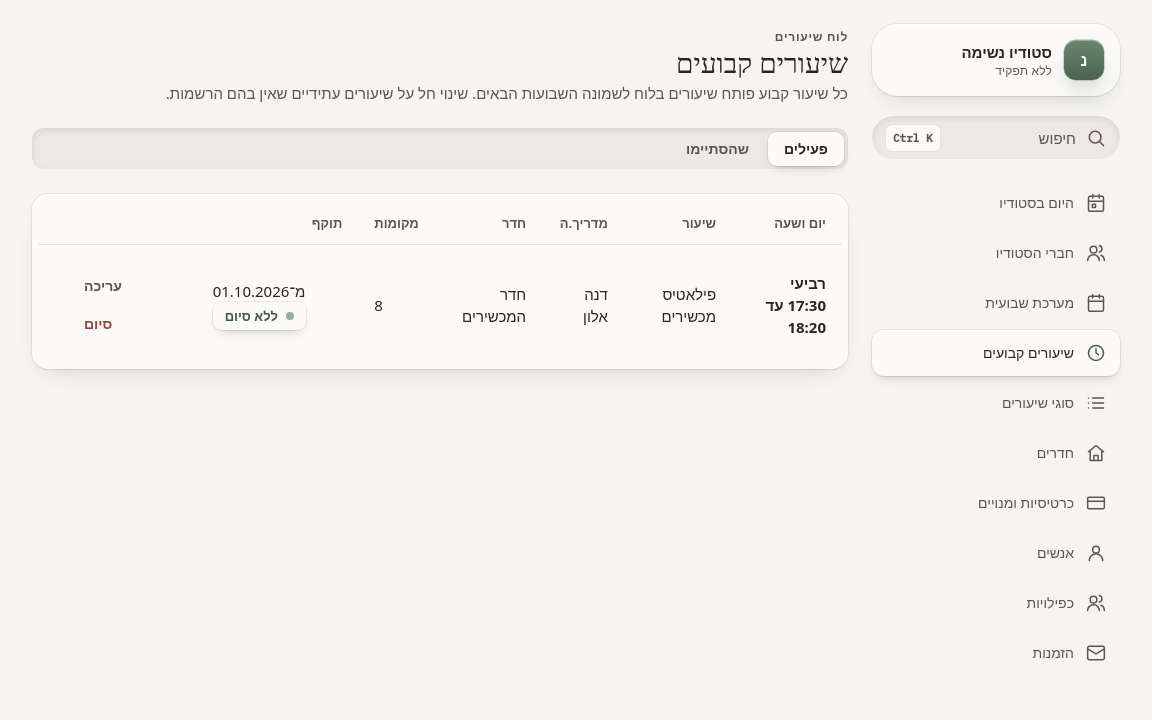
Test: weekly classes › ends a weekly class on the day picked
Click the button "סיום" at (98, 324), box [62,307,134,341]
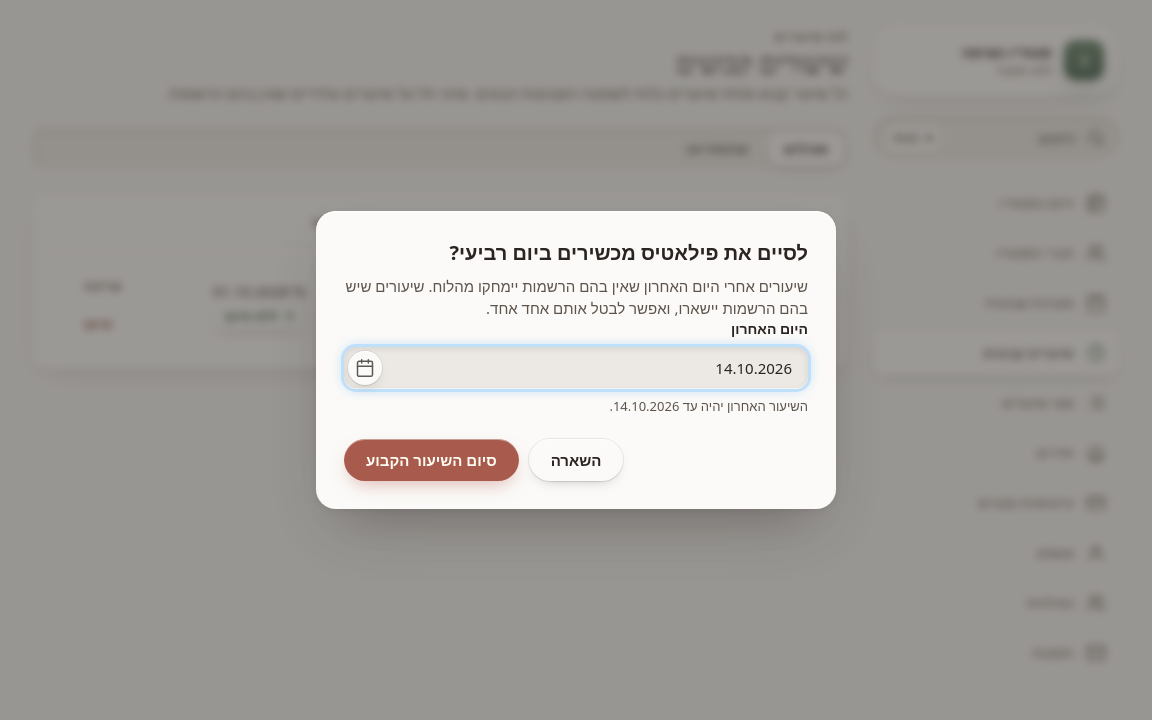
Click the button "סיום השיעור הקבוע" at (431, 460), box [344,439,519,481]
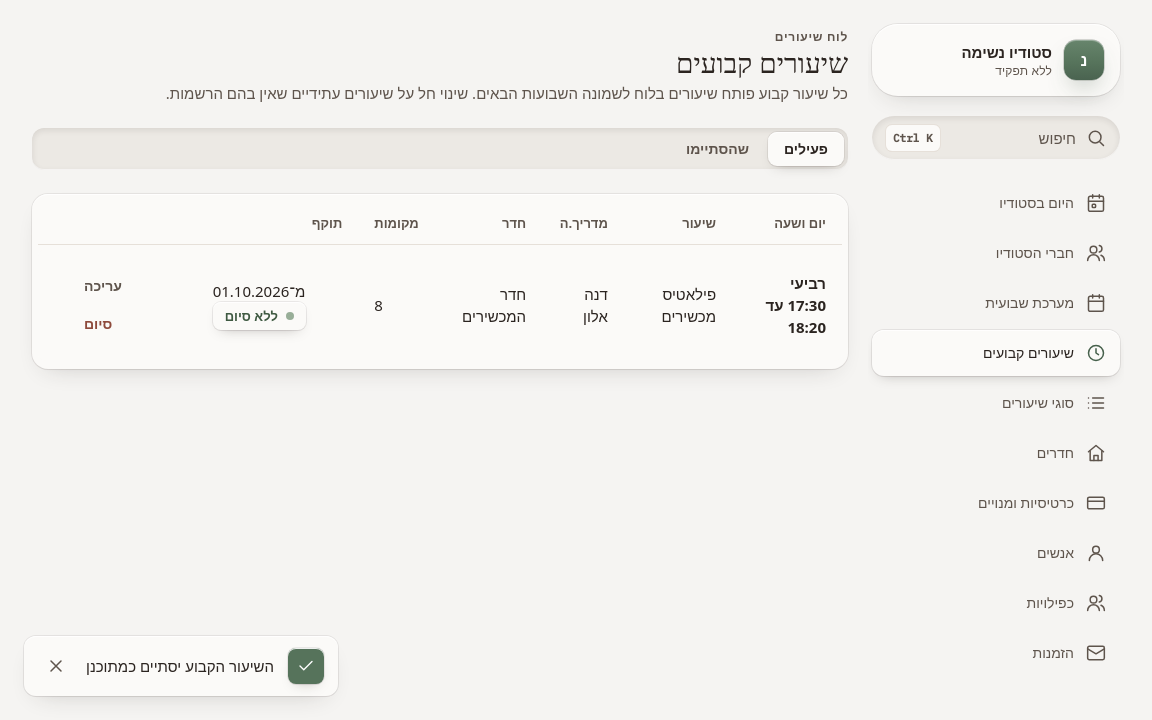
Expected: the text "השיעור הקבוע יסתיים כמתוכנן" is shown, [86,655,274,677]
